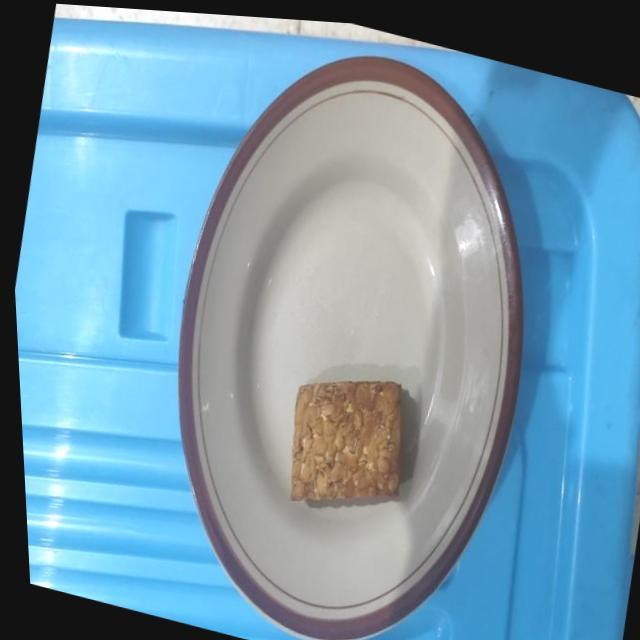tempe_goreng: (292, 382, 402, 501)
